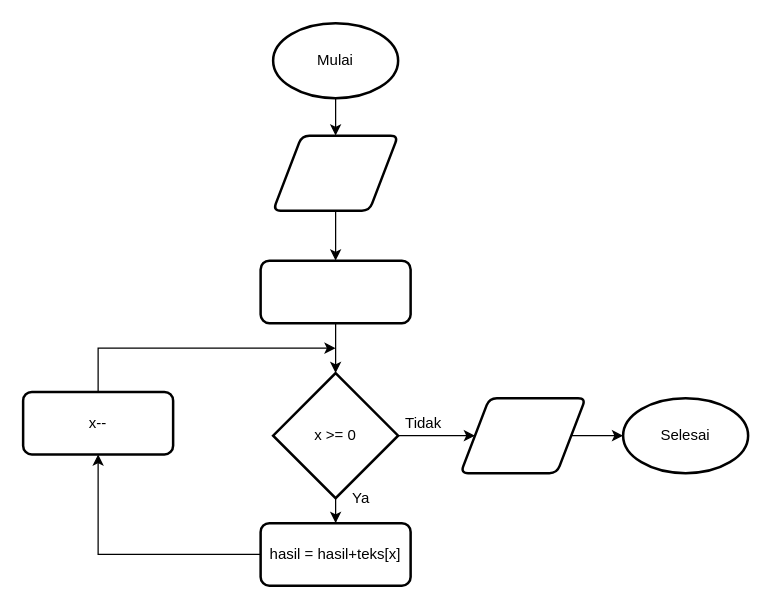
Some shapes in this 770 by 608 pixel diagram are drawn without their labels. Each missing label, with the box of its shape:
"hasil": (459, 396, 586, 474)
"teks": (271, 134, 399, 211)
x = teks.length-1 hasil = "": (259, 259, 411, 324)
